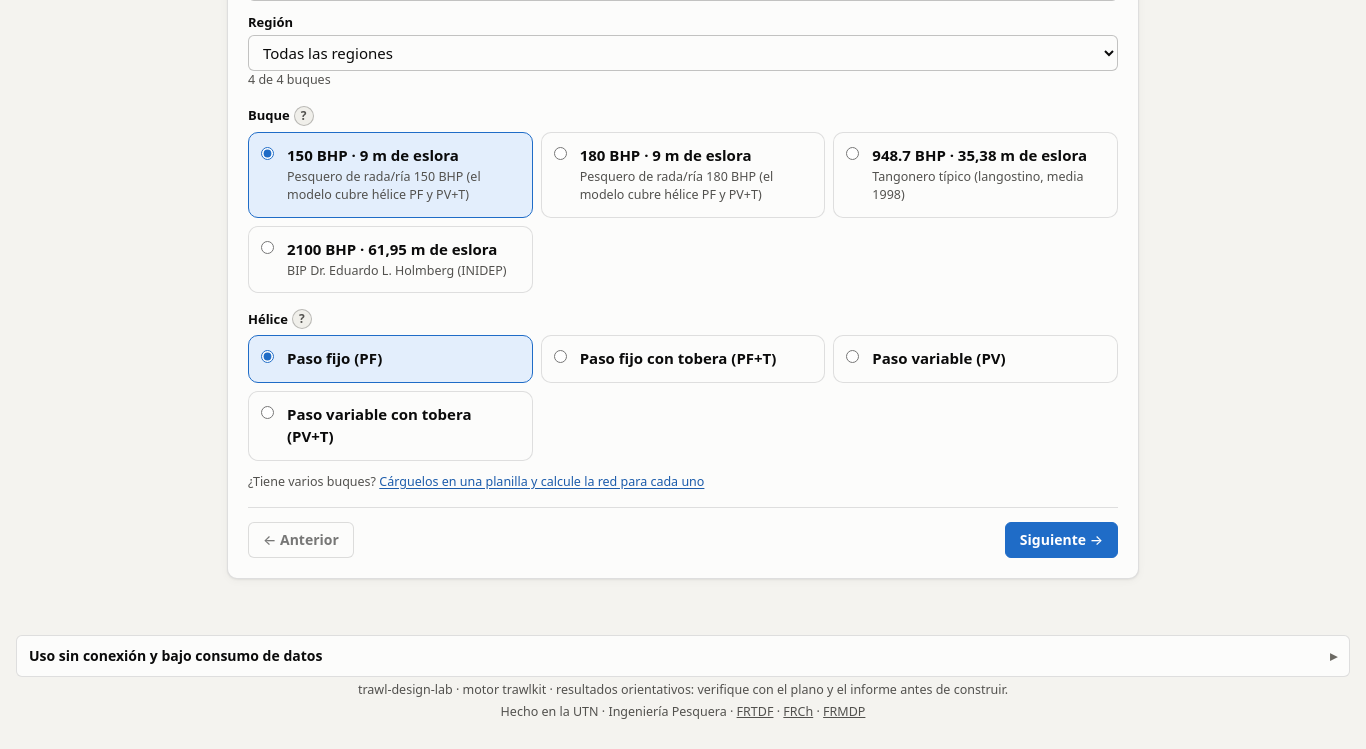
Test: explorador animado › el modo guiado abre el explorador configurado con la captura esperada
(page scrolled)
Expected: the radio button labelled "150 BHP" is shown, [261,147,274,160]
Click the button "Siguiente →" at coordinates (1061, 540), box [1005,522,1118,558]
(page scrolled)
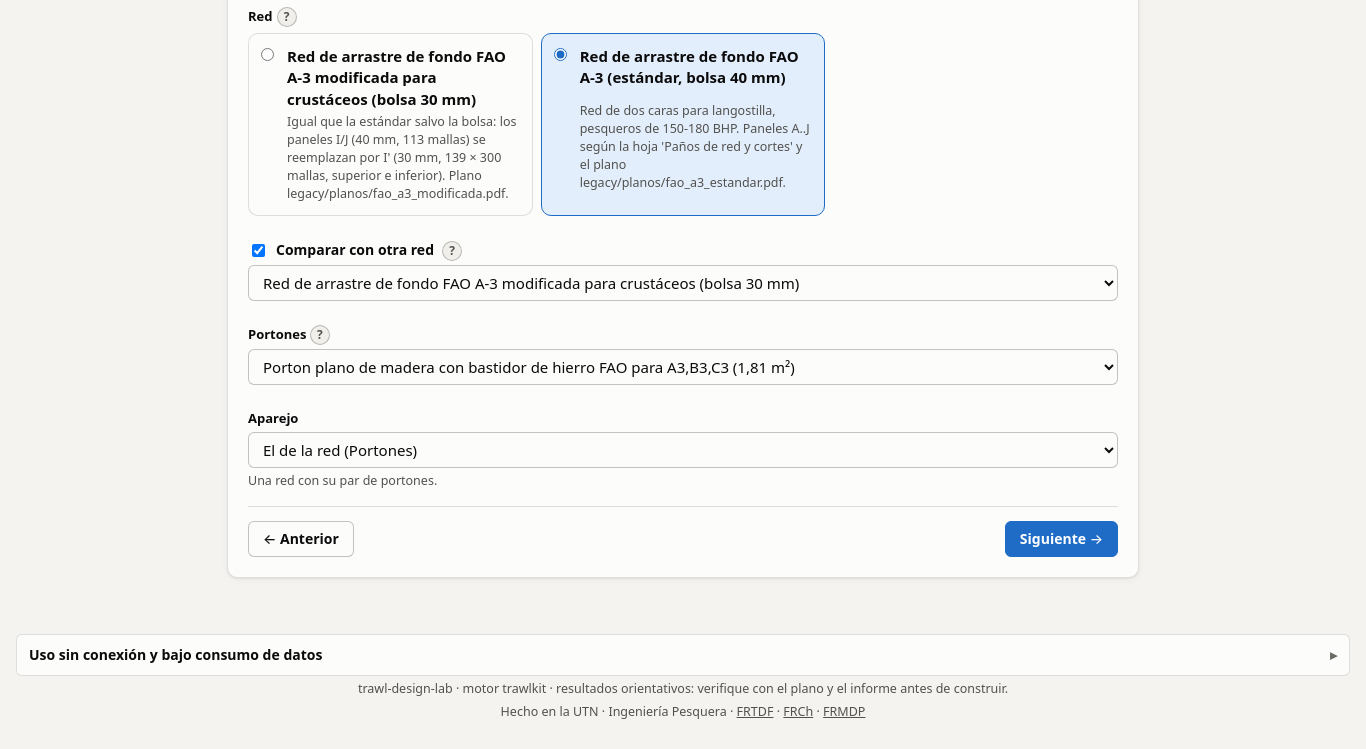
Click the button "Siguiente →" at coordinates (1061, 539), box [1005,521,1118,557]
(page scrolled)
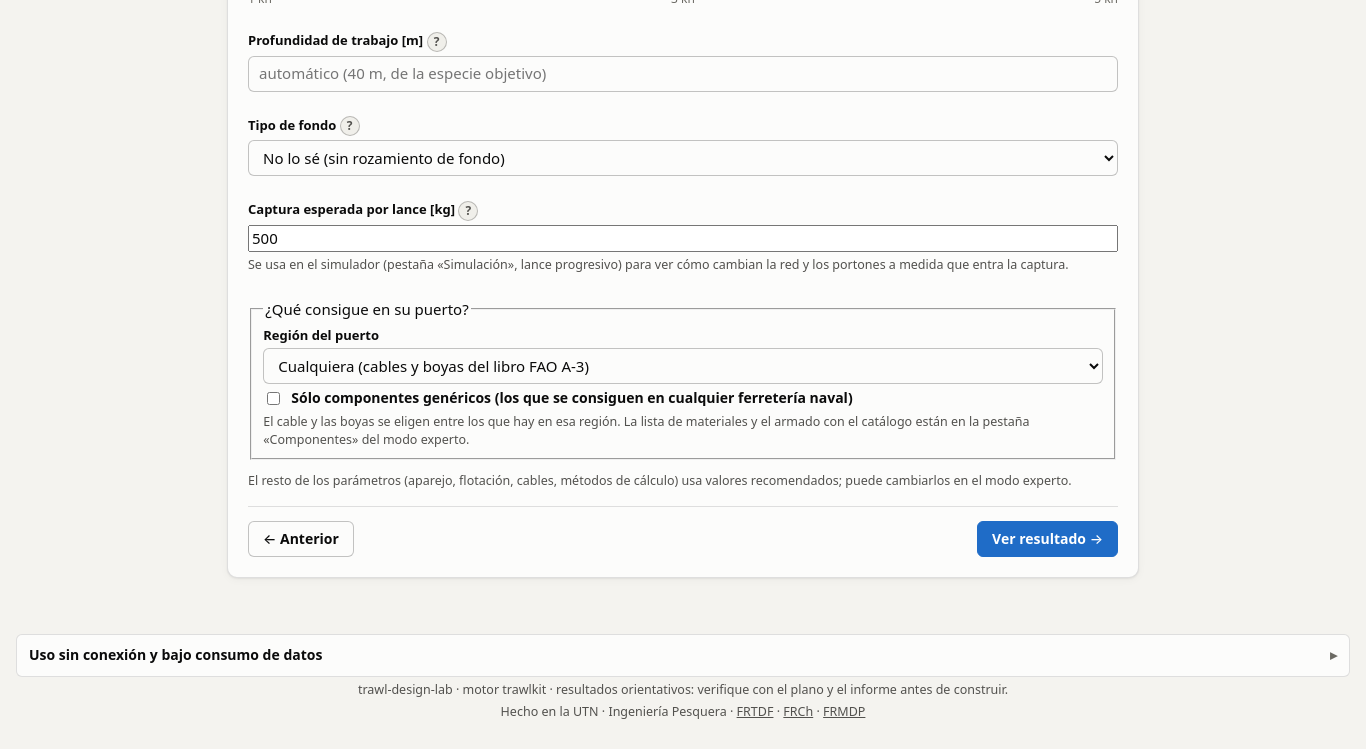
Click the button "Ver resultado →" at coordinates (1048, 540), box [977,522,1118,558]
(page scrolled)
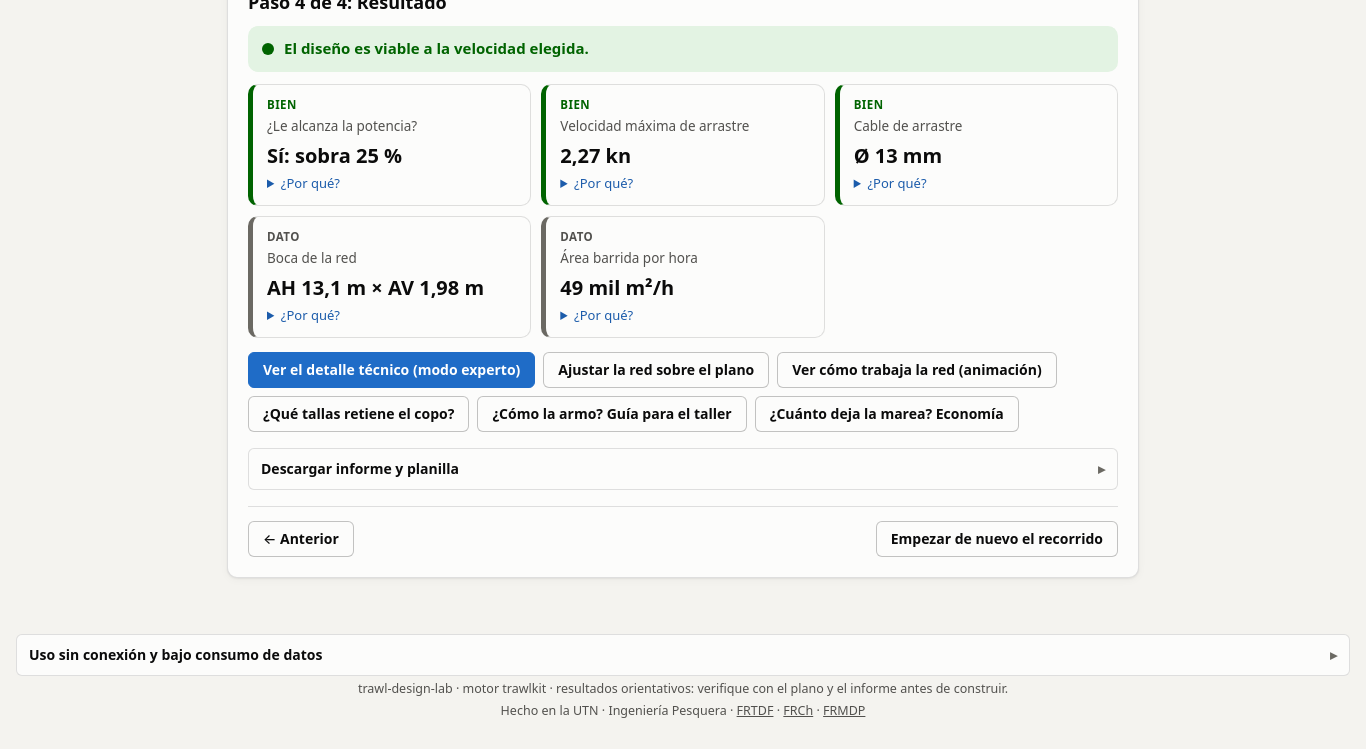
Click the button "Ver cómo trabaja la red (animación)" at coordinates (917, 370), box [777,352,1057,388]
(page scrolled)
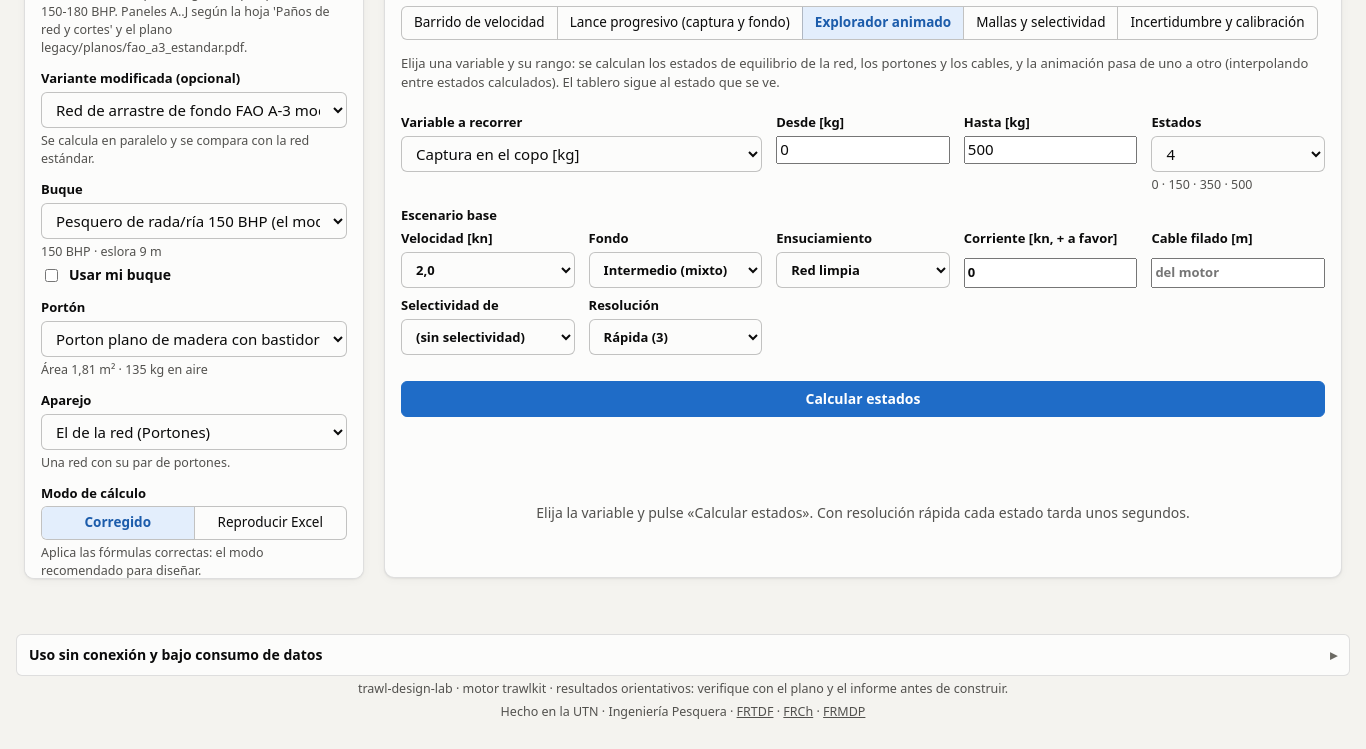
Now the number field labelled "Hasta [kg]" holds "500", box [964,136,1137,164]
